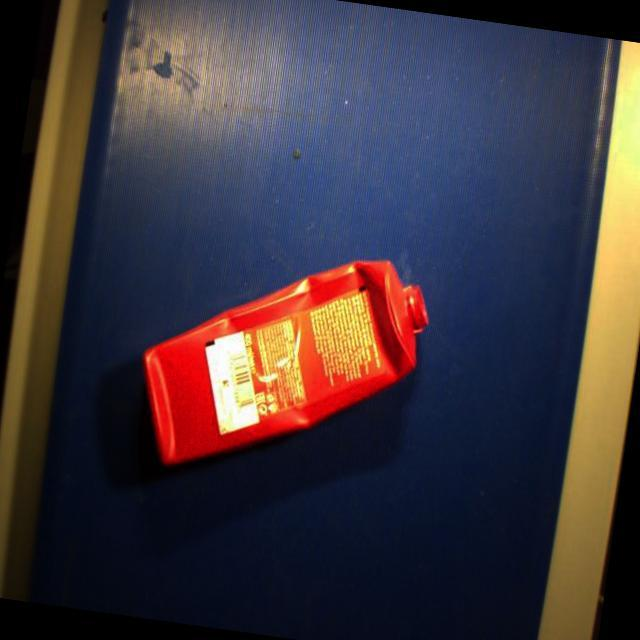HDPE Plastic: (140, 254, 433, 467)
